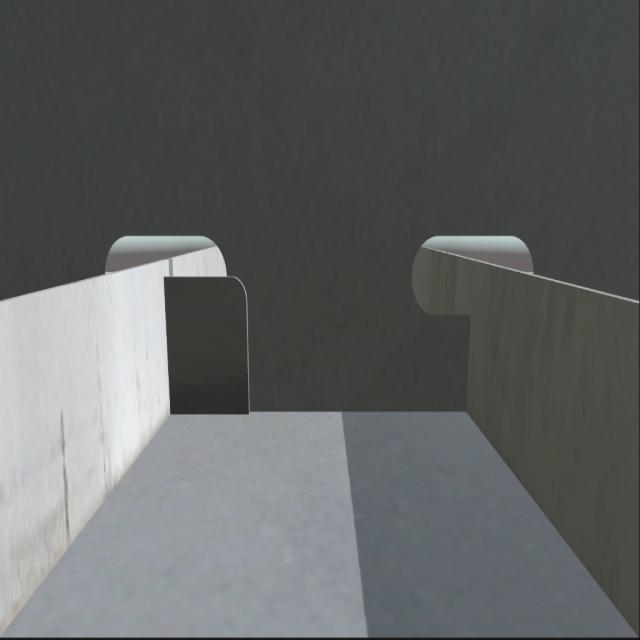fillet_yong_jeop_jang: (165, 397, 466, 426)
longi_yong_jeop_jang: (157, 268, 176, 422), (457, 310, 478, 418)
plate_CP05: (167, 275, 250, 414)
